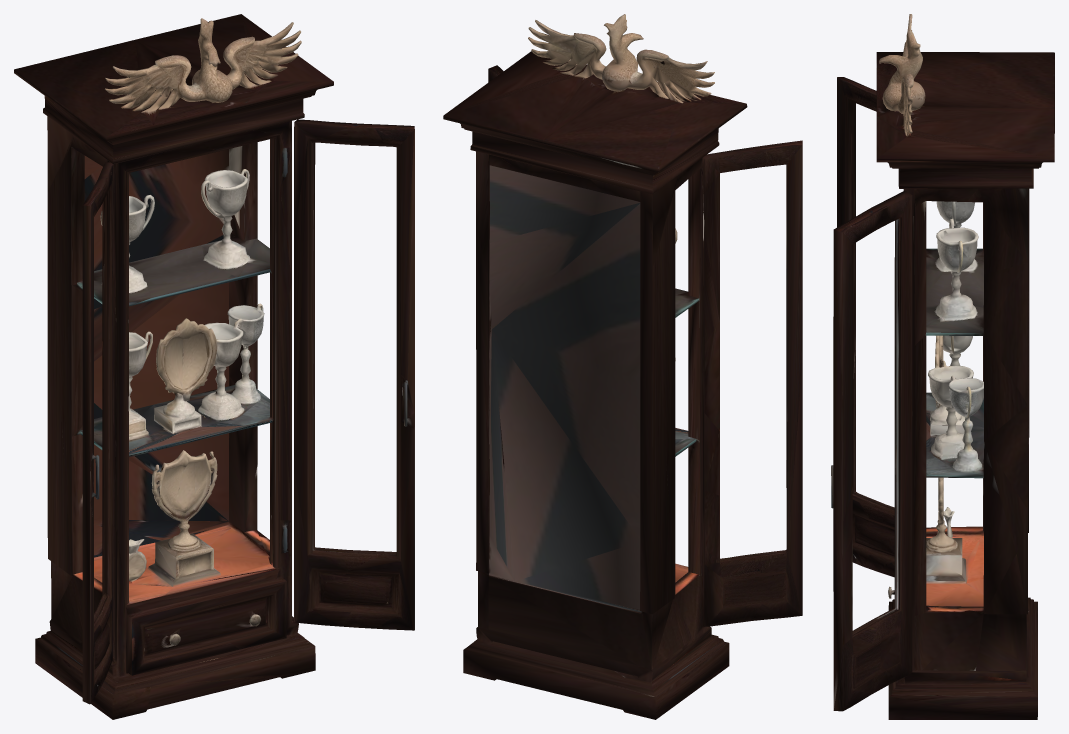
Rendered from trophy_h3.glb.
3 views of the same model, side by side, from view 1: azimuth 30°, elevation 25°; view 2: azimuth 150°, elevation 25°; view 3: azimuth 270°, elevation 25° (orthographic). The views are drawn at different scales.
Parts seen in each view (by area): view 1: body; view 2: body; view 3: body.
Boxes of the visible parts, x1=… form: body: x1=14, y1=14, x2=414, y2=719; body: x1=443, y1=14, x2=802, y2=719; body: x1=831, y1=14, x2=1054, y2=719.
Bounding box in the file's own units: 1.14 × 2.2 × 0.6933.
1 material, 1 textured.
